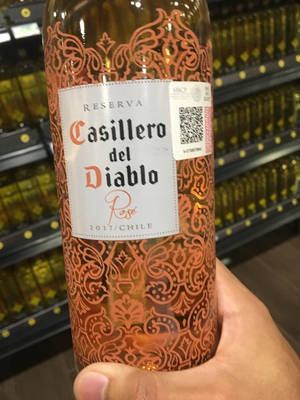casillero del diablo rose: (45, 3, 233, 386)
